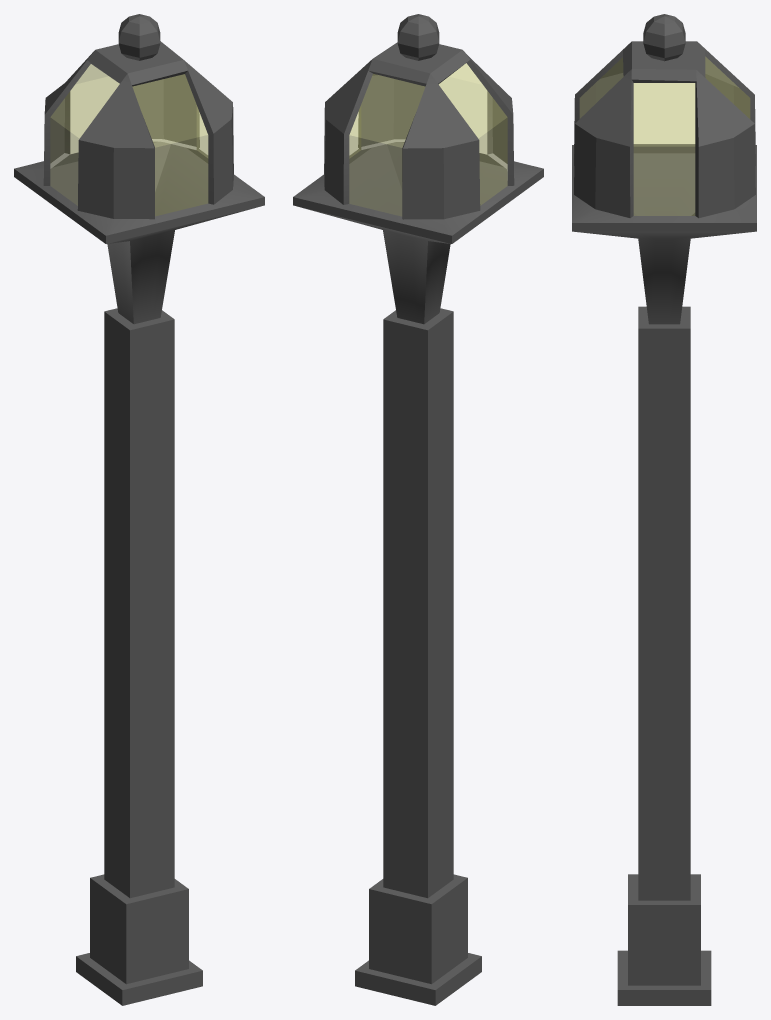
File: Lamppost.fbx
The picture shows the model from 3 angles, left to right: view 1: azimuth 30°, elevation 25°; view 2: azimuth 150°, elevation 25°; view 3: azimuth 270°, elevation 25°; orthographic projection.
Parts seen in each view (by area): view 1: pSphere2; view 2: pSphere2; view 3: pSphere2.
Boxes of the visible parts, x1=… form: pSphere2: x1=14, y1=14, x2=264, y2=1005; pSphere2: x1=293, y1=14, x2=543, y2=1005; pSphere2: x1=572, y1=14, x2=756, y2=1005.
Bounding box in the file's own units: 0.2551 × 1.48 × 0.2551.
